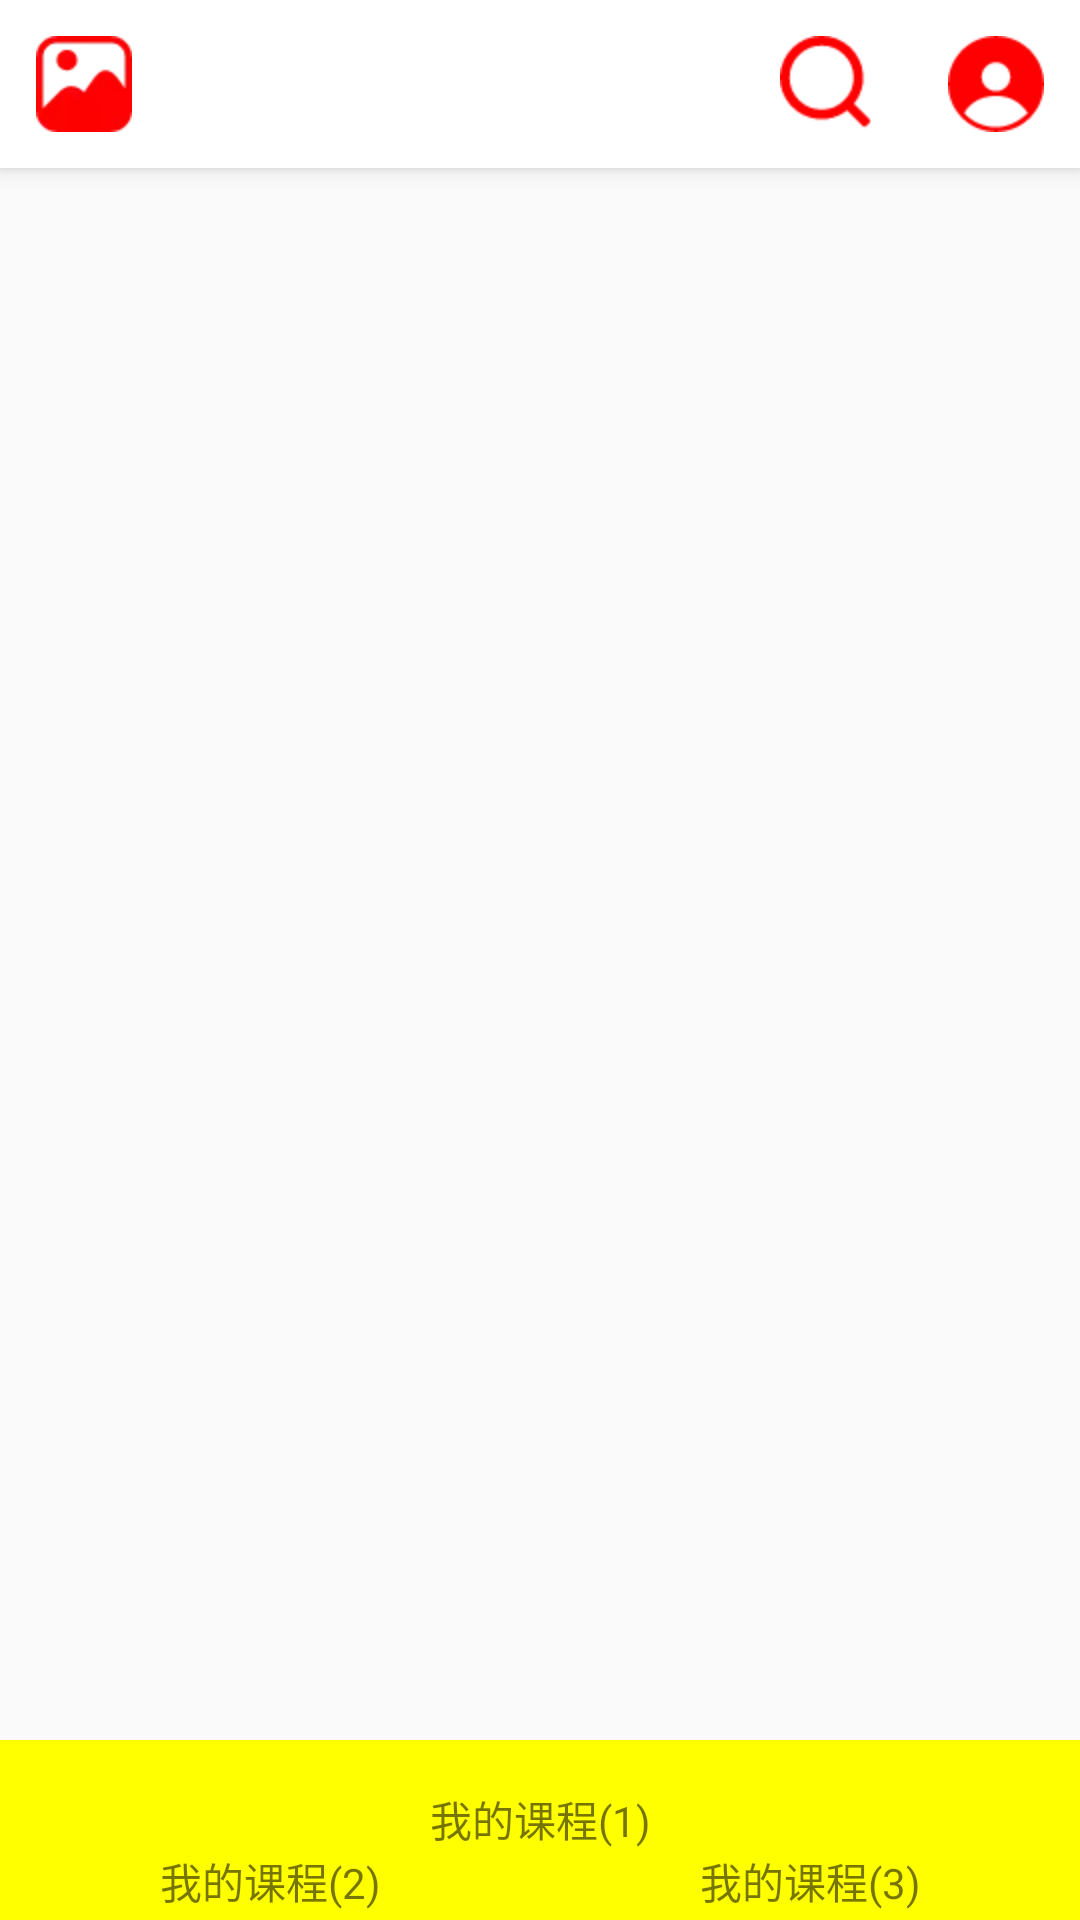

Icon bounding boxes for this 1080px×1920px phone screenshot, format (x1, y1, x2, y2):
person: (948, 36, 1044, 132)
photo: (36, 36, 132, 132)
search: (780, 36, 871, 128)
